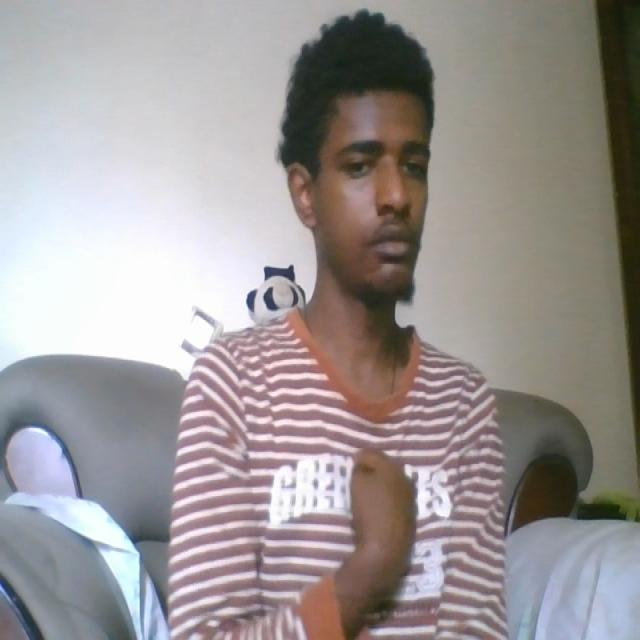ene: (333, 442, 424, 600)
